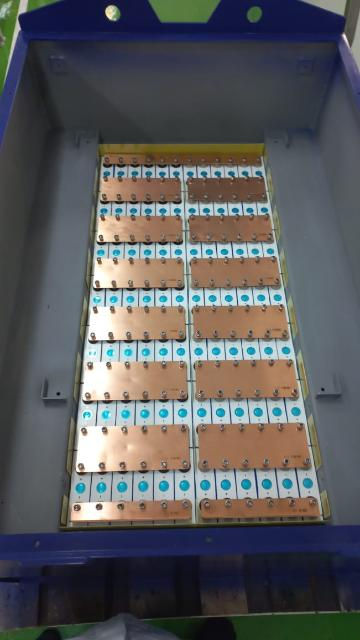busbar: (195, 415, 314, 481), (71, 424, 194, 476), (195, 360, 302, 402), (82, 362, 188, 402), (191, 303, 291, 341), (67, 498, 195, 527), (88, 307, 188, 342), (92, 257, 186, 291), (189, 257, 281, 290), (96, 214, 185, 245), (199, 497, 316, 520), (189, 214, 276, 244), (98, 176, 182, 204), (186, 176, 269, 203), (103, 153, 263, 166)
